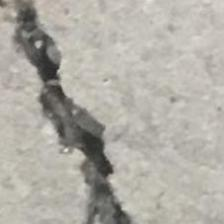Crack: (10, 0, 160, 224)
